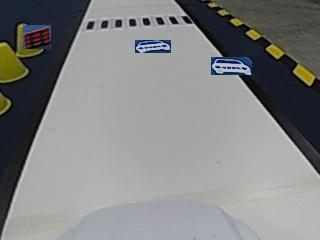crosswalk: (84, 15, 191, 30)
